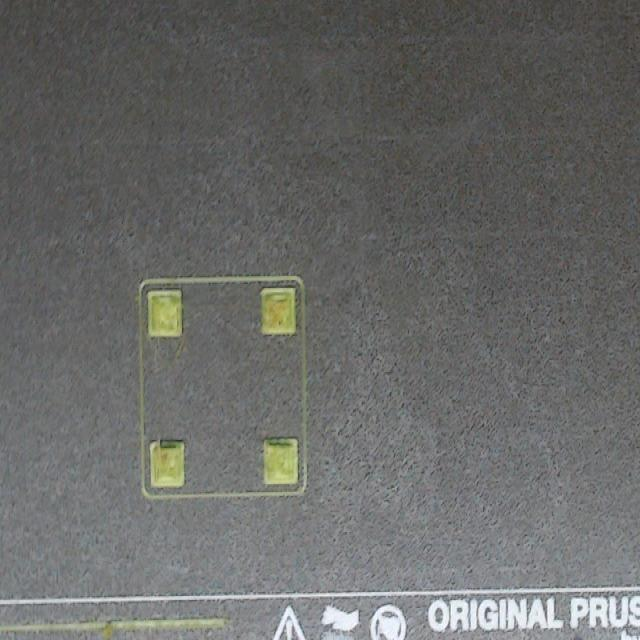mistake: (267, 296, 289, 332)
